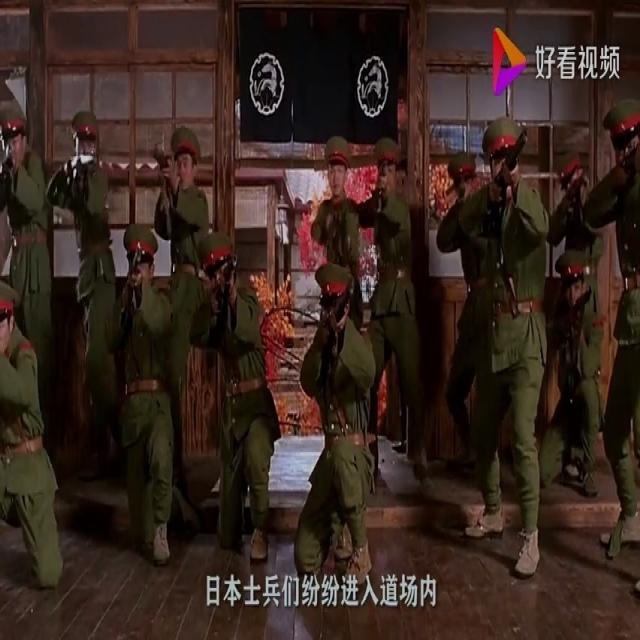non-fight: (451, 116, 550, 573), (290, 262, 379, 588), (580, 97, 640, 561), (193, 234, 273, 565), (51, 108, 118, 478), (108, 227, 177, 568), (356, 136, 424, 480), (154, 127, 209, 490), (0, 95, 55, 452), (0, 272, 62, 588), (437, 148, 496, 477), (536, 248, 605, 502), (309, 138, 365, 327), (549, 156, 605, 324)
